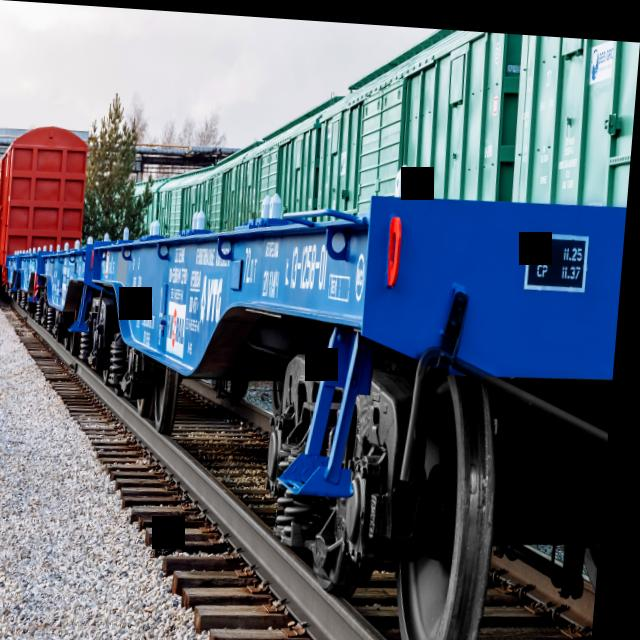boxcar: (314, 17, 521, 222), (505, 27, 640, 200), (0, 119, 97, 313)
flatcar: (67, 140, 631, 640), (35, 235, 95, 346), (18, 246, 43, 321)
